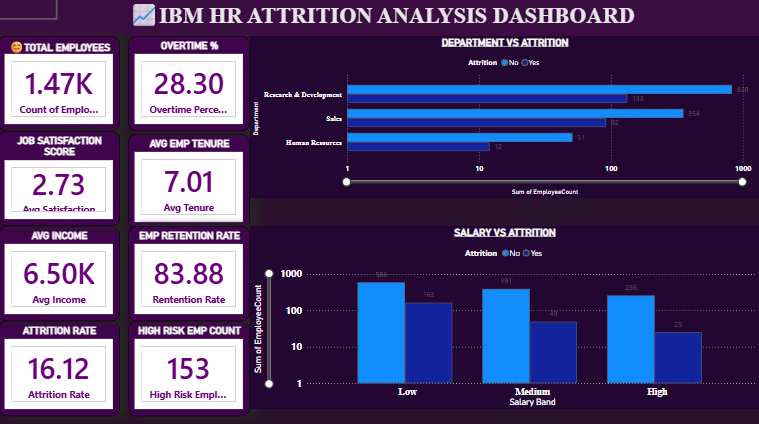

This screenshot's page, from the dashboard's own definition file:
{"tool":"powerbi","page":{"name":"Page 1","canvas":[1280,720],"ordinal":0},"visuals":[{"type":"cardVisual","title":"😊TOTAL EMPLOYEES","fields":{"Data":["CountNonNull(IBM HR xls.EmployeeCount)"]},"box":[0,67.2,204.9,159.6],"z":0},{"type":"cardVisual","title":"ATTRITION RATE","fields":{"Data":["IBM HR xls.Attrition Rate"]},"box":[0,545.9,204.9,159.6],"z":1000},{"type":"cardVisual","title":"AVG INCOME","fields":{"Data":["IBM HR xls.Avg Income"]},"box":[0,386.4,204.9,159.6],"z":2000},{"type":"cardVisual","title":"JOB SATISFACTION SCORE","fields":{"Data":["IBM HR xls.Avg Satisfaction"]},"box":[0,226.8,204.9,159.6],"z":3000},{"type":"cardVisual","title":"AVG EMP TENURE","fields":{"Data":["IBM HR xls.Avg Tenure"]},"box":[218.4,231.8,204.9,159.6],"z":4000},{"type":"cardVisual","title":"HIGH RISK EMP COUNT","fields":{"Data":["IBM HR xls.High Risk Employees"]},"box":[218.4,545.9,204.9,159.6],"z":5000},{"type":"cardVisual","title":"OVERTIME %","fields":{"Data":["IBM HR xls.Overtime Percentage"]},"box":[218.4,67.2,204.9,159.6],"z":6000},{"type":"cardVisual","title":"EMP RETENTION RATE","fields":{"Data":["IBM HR xls.Rentention Rate"]},"box":[218.4,386.4,204.9,159.6],"z":7000},{"type":"textbox","box":[0,0,1280,67.2],"z":8000},{"type":"clusteredBarChart","title":"DEPARTMENT VS ATTRITION","fields":{"Category":["IBM HR xls.Department"],"Y":["Sum(IBM HR xls.EmployeeCount)"],"Series":["IBM HR xls.Attrition"]},"box":[423.3,67.2,856.7,272.1],"z":9000},{"type":"clusteredColumnChart","title":"SALARY VS ATTRITION","fields":{"Category":["IBM HR xls.Salary Band"],"Y":["Sum(IBM HR xls.EmployeeCount)"],"Series":["IBM HR xls.Attrition"]},"box":[423.3,386.4,856.7,307.4],"z":10000},{"type":"actionButton","box":[0,0,100,40],"z":11000}]}

Visuals, with their boxes in screenshot pixels (x1, y1, x2, y2), scaled from the page's 1280x720 canvas onto the 759x424 screenshot:
"😊TOTAL EMPLOYEES" cardVisual: detection(0, 40, 121, 134)
"ATTRITION RATE" cardVisual: detection(0, 321, 121, 415)
"AVG INCOME" cardVisual: detection(0, 228, 121, 322)
"JOB SATISFACTION SCORE" cardVisual: detection(0, 134, 121, 228)
"AVG EMP TENURE" cardVisual: detection(130, 137, 251, 230)
"HIGH RISK EMP COUNT" cardVisual: detection(130, 321, 251, 415)
"OVERTIME %" cardVisual: detection(130, 40, 251, 134)
"EMP RETENTION RATE" cardVisual: detection(130, 228, 251, 322)
textbox: detection(0, 0, 758, 40)
"DEPARTMENT VS ATTRITION" clusteredBarChart: detection(251, 40, 758, 200)
"SALARY VS ATTRITION" clusteredColumnChart: detection(251, 228, 758, 409)
actionButton: detection(0, 0, 59, 24)
